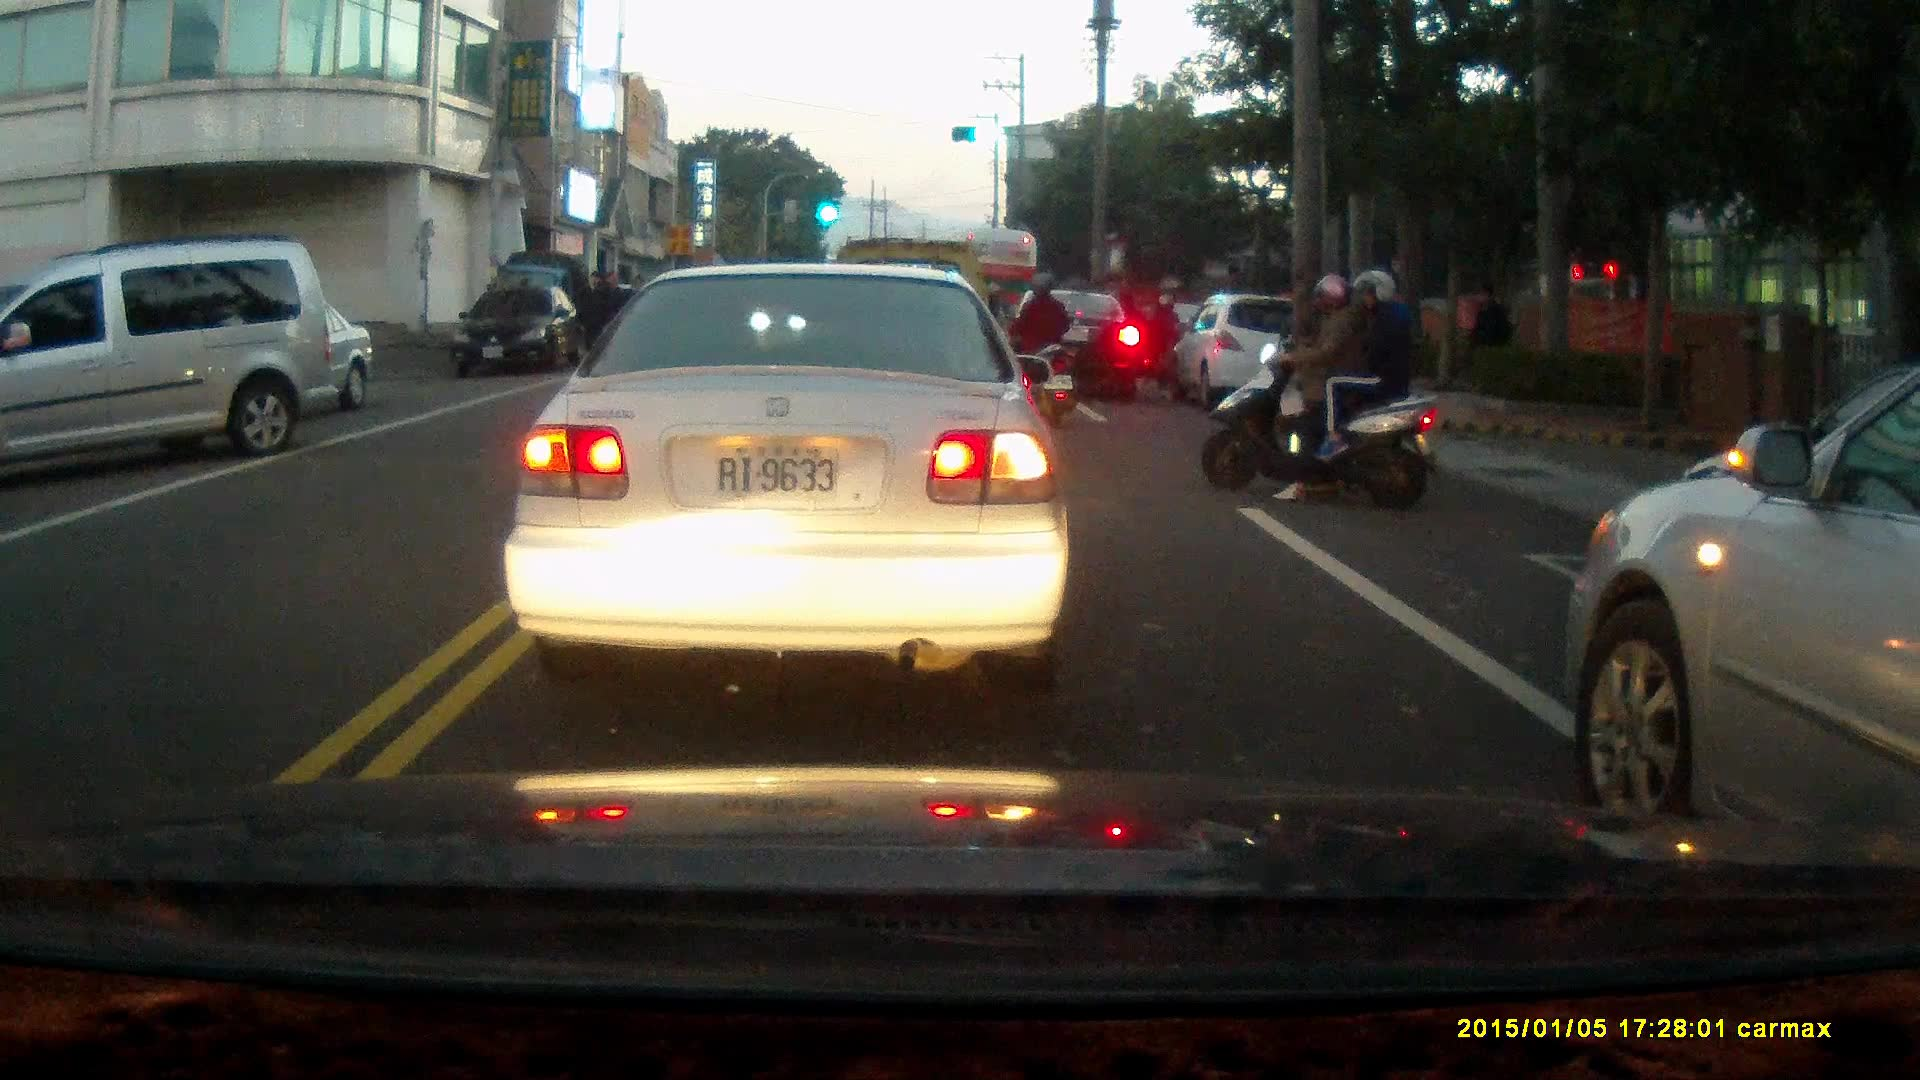pedestrian: (1464, 281, 1510, 381), (571, 272, 607, 371), (589, 273, 620, 373)
rider: (1199, 269, 1442, 515), (1001, 268, 1072, 425), (1146, 292, 1182, 390)
vehicle: (504, 259, 1077, 692), (1566, 358, 1919, 853), (1, 243, 342, 481), (1176, 295, 1319, 404), (1007, 289, 1143, 400), (452, 284, 584, 381)
